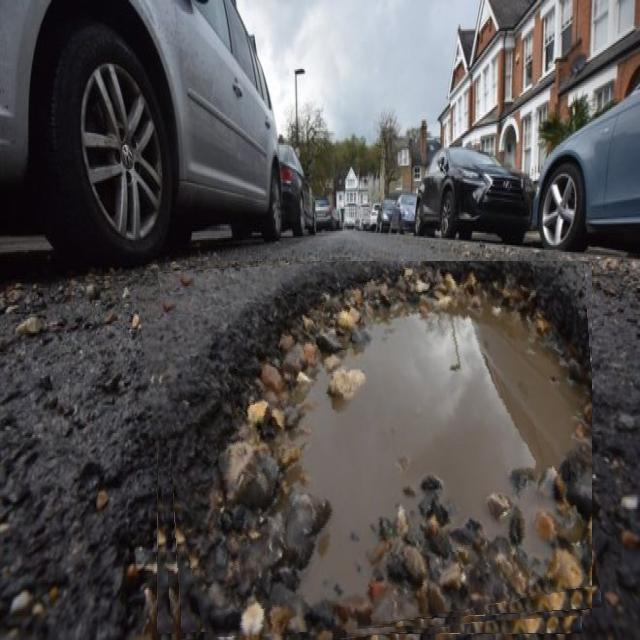Pothole: (147, 261, 592, 640)
